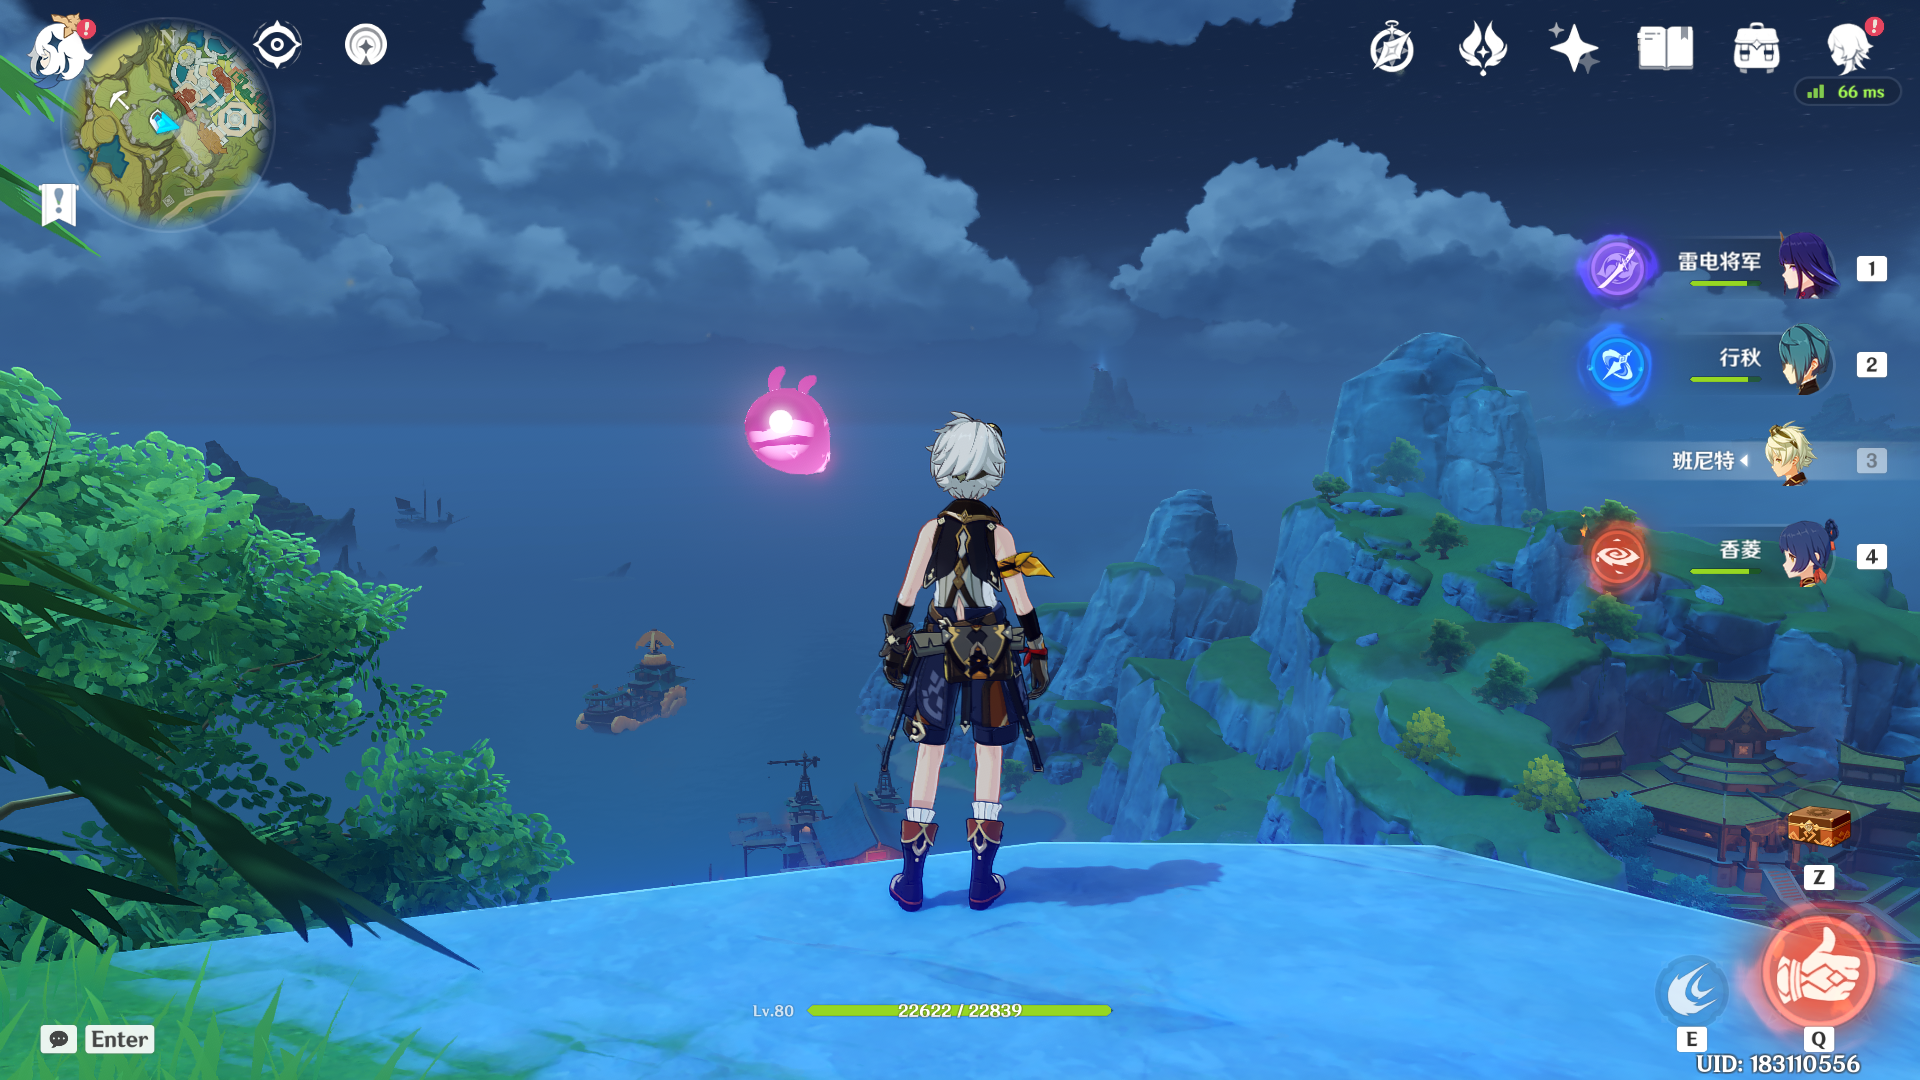character: (807, 382, 1097, 975)
